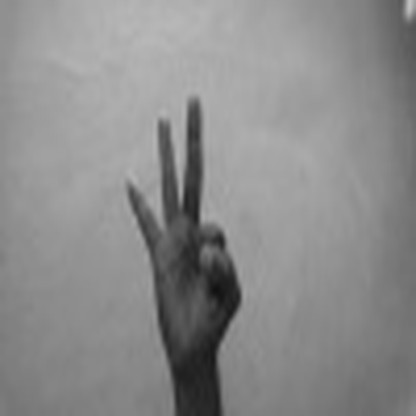f: (106, 86, 245, 364)
